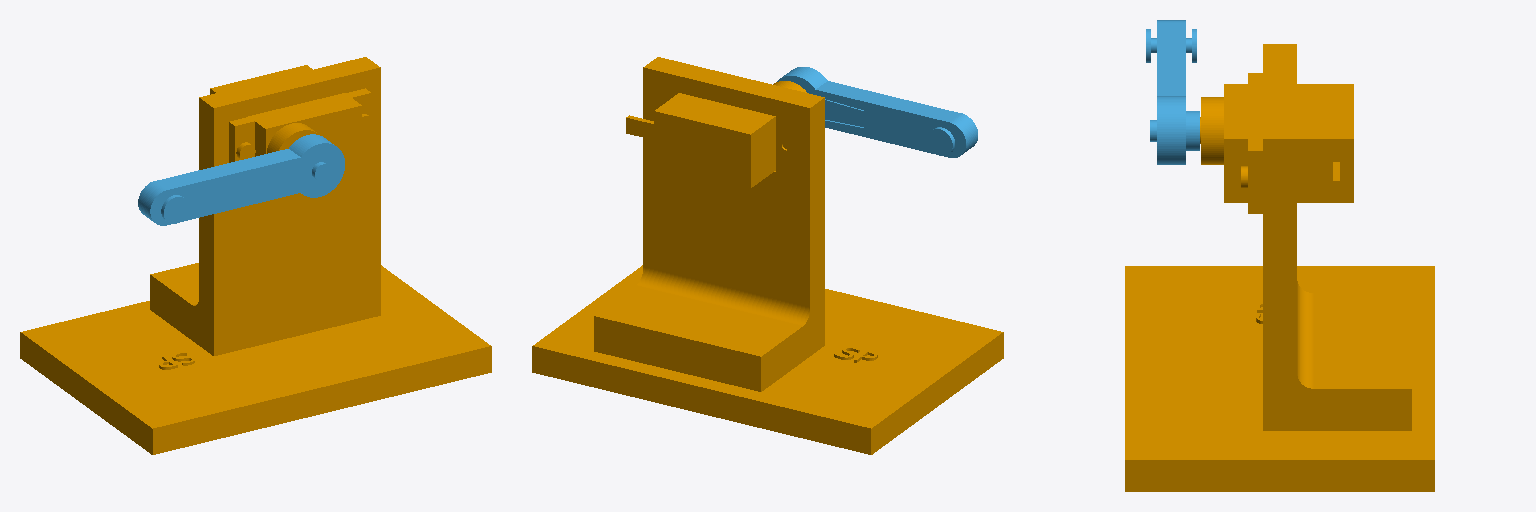
The robot description file, URDF, robot "servo_mount_v1":
<robot name="servo_mount_v1">
  <link name="base_link">
    <inertial>
      <origin xyz="-0.002946 0.005692 0.020996" rpy="0 0 0" />
      <mass value="0.045848" />
      <inertia ixx="2.603e-05" ixy="-4.112e-07" ixz="-2.301e-06" iyy="3.290e-05" iyz="1.472e-06" izz="1.900e-05" />
    </inertial>
    <visual name="base_v">
      <origin xyz="-0.000000 -0.000000 -0.000000" rpy="0 0 0" />
      <geometry>
        <mesh filename="stl/base.stl" scale="0.001 0.001 0.001" />
      </geometry>
    </visual>
    <collision name="base_c">
      <origin xyz="-0.000000 -0.000000 -0.000000" rpy="0 0 0" />
      <geometry>
        <mesh filename="stl/base.stl" scale="0.001 0.001 0.001" />
      </geometry>
    </collision>
    <visual name="cradle_v">
      <origin xyz="-0.000000 -0.000000 -0.000000" rpy="0 0 0" />
      <geometry>
        <mesh filename="stl/cradle.stl" scale="0.001 0.001 0.001" />
      </geometry>
    </visual>
    <collision name="cradle_c">
      <origin xyz="-0.000000 -0.000000 -0.000000" rpy="0 0 0" />
      <geometry>
        <mesh filename="stl/cradle.stl" scale="0.001 0.001 0.001" />
      </geometry>
    </collision>
    <visual name="servo_v">
      <origin xyz="-0.000000 -0.000000 -0.000000" rpy="0 0 0" />
      <geometry>
        <mesh filename="stl/servo.stl" scale="0.001 0.001 0.001" />
      </geometry>
    </visual>
    <collision name="servo_c">
      <origin xyz="-0.000000 -0.000000 -0.000000" rpy="0 0 0" />
      <geometry>
        <mesh filename="stl/servo.stl" scale="0.001 0.001 0.001" />
      </geometry>
    </collision>
    <visual name="tab0_v">
      <origin xyz="-0.000000 -0.000000 -0.000000" rpy="0 0 0" />
      <geometry>
        <mesh filename="stl/tab0.stl" scale="0.001 0.001 0.001" />
      </geometry>
    </visual>
    <collision name="tab0_c">
      <origin xyz="-0.000000 -0.000000 -0.000000" rpy="0 0 0" />
      <geometry>
        <mesh filename="stl/tab0.stl" scale="0.001 0.001 0.001" />
      </geometry>
    </collision>
    <visual name="tab1_v">
      <origin xyz="-0.000000 -0.000000 -0.000000" rpy="0 0 0" />
      <geometry>
        <mesh filename="stl/tab1.stl" scale="0.001 0.001 0.001" />
      </geometry>
    </visual>
    <collision name="tab1_c">
      <origin xyz="-0.000000 -0.000000 -0.000000" rpy="0 0 0" />
      <geometry>
        <mesh filename="stl/tab1.stl" scale="0.001 0.001 0.001" />
      </geometry>
    </collision>
    <visual name="m3a_v">
      <origin xyz="-0.000000 -0.000000 -0.000000" rpy="0 0 0" />
      <geometry>
        <mesh filename="stl/m3a.stl" scale="0.001 0.001 0.001" />
      </geometry>
    </visual>
    <collision name="m3a_c">
      <origin xyz="-0.000000 -0.000000 -0.000000" rpy="0 0 0" />
      <geometry>
        <mesh filename="stl/m3a.stl" scale="0.001 0.001 0.001" />
      </geometry>
    </collision>
    <visual name="m3b_v">
      <origin xyz="-0.000000 -0.000000 -0.000000" rpy="0 0 0" />
      <geometry>
        <mesh filename="stl/m3b.stl" scale="0.001 0.001 0.001" />
      </geometry>
    </visual>
    <collision name="m3b_c">
      <origin xyz="-0.000000 -0.000000 -0.000000" rpy="0 0 0" />
      <geometry>
        <mesh filename="stl/m3b.stl" scale="0.001 0.001 0.001" />
      </geometry>
    </collision>
    <visual name="ins_a_v">
      <origin xyz="-0.000000 -0.000000 -0.000000" rpy="0 0 0" />
      <geometry>
        <mesh filename="stl/ins_a.stl" scale="0.001 0.001 0.001" />
      </geometry>
    </visual>
    <collision name="ins_a_c">
      <origin xyz="-0.000000 -0.000000 -0.000000" rpy="0 0 0" />
      <geometry>
        <mesh filename="stl/ins_a.stl" scale="0.001 0.001 0.001" />
      </geometry>
    </collision>
    <visual name="ins_b_v">
      <origin xyz="-0.000000 -0.000000 -0.000000" rpy="0 0 0" />
      <geometry>
        <mesh filename="stl/ins_b.stl" scale="0.001 0.001 0.001" />
      </geometry>
    </visual>
    <collision name="ins_b_c">
      <origin xyz="-0.000000 -0.000000 -0.000000" rpy="0 0 0" />
      <geometry>
        <mesh filename="stl/ins_b.stl" scale="0.001 0.001 0.001" />
      </geometry>
    </collision>
  </link>
  <link name="arm_link">
    <inertial>
      <origin xyz="-0.034710 -0.001899 0.000000" rpy="0 0 0" />
      <mass value="0.202683" />
      <inertia ixx="2.401e-08" ixy="-9.218e-09" ixz="-4.101e-22" iyy="1.744e-06" iyz="-6.201e-22" izz="1.738e-06" />
    </inertial>
    <visual name="horn_v">
      <origin xyz="0.005300 0.014000 -0.052000" rpy="0 0 0" />
      <geometry>
        <mesh filename="stl/horn.stl" scale="0.001 0.001 0.001" />
      </geometry>
    </visual>
    <collision name="horn_c">
      <origin xyz="0.005300 0.014000 -0.052000" rpy="0 0 0" />
      <geometry>
        <mesh filename="stl/horn.stl" scale="0.001 0.001 0.001" />
      </geometry>
    </collision>
    <visual name="arm_v">
      <origin xyz="0.005300 0.014000 -0.052000" rpy="0 0 0" />
      <geometry>
        <mesh filename="stl/arm.stl" scale="0.001 0.001 0.001" />
      </geometry>
    </visual>
    <collision name="arm_c">
      <origin xyz="0.005300 0.014000 -0.052000" rpy="0 0 0" />
      <geometry>
        <mesh filename="stl/arm.stl" scale="0.001 0.001 0.001" />
      </geometry>
    </collision>
    <visual name="horn_screw_v">
      <origin xyz="0.005300 0.014000 -0.052000" rpy="0 0 0" />
      <geometry>
        <mesh filename="stl/horn_screw.stl" scale="0.001 0.001 0.001" />
      </geometry>
    </visual>
    <collision name="horn_screw_c">
      <origin xyz="0.005300 0.014000 -0.052000" rpy="0 0 0" />
      <geometry>
        <mesh filename="stl/horn_screw.stl" scale="0.001 0.001 0.001" />
      </geometry>
    </collision>
    <visual name="weight_v">
      <origin xyz="0.005300 0.014000 -0.052000" rpy="0 0 0" />
      <geometry>
        <mesh filename="stl/weight.stl" scale="0.001 0.001 0.001" />
      </geometry>
    </visual>
    <collision name="weight_c">
      <origin xyz="0.005300 0.014000 -0.052000" rpy="0 0 0" />
      <geometry>
        <mesh filename="stl/weight.stl" scale="0.001 0.001 0.001" />
      </geometry>
    </collision>
  </link>
  <link name="load_point">
    <inertial>
      <mass value="0.000001" />
      <inertia ixx="1e-12" ixy="0" ixz="0" iyy="1e-12" iyz="0" izz="1e-12" />
    </inertial>
  </link>
  <joint name="shaft" type="revolute">
    <parent link="base_link" />
    <child link="arm_link" />
    <origin xyz="-0.005300 -0.014000 0.052000" rpy="0 0 0" />
    <axis xyz="0.0 1.0 0" />
    <limit lower="-1.57080" upper="1.57080" effort="0.1765" velocity="10.472" />
  </joint>
  <joint name="load_point_fixed" type="fixed">
    <parent link="arm_link" />
    <child link="load_point" />
    <origin xyz="-0.035000 -0.001900 0.000000" rpy="0 0 0" />
  </joint>
</robot>

--- Render facts (derived) ---
The picture shows the robot from 3 angles, left to right: view 1: azimuth 30°, elevation 25°; view 2: azimuth 150°, elevation 25°; view 3: azimuth 270°, elevation 25°; orthographic projection.
Model servo_mount_v1 with 3 links and 2 joints (1 revolute, 1 fixed), rooted at base_link, posed all joints at 0.
Links seen in each view (by area): view 1: base_link, arm_link; view 2: base_link, arm_link; view 3: base_link, arm_link.
Boxes of the visible links, <box> form: base_link: <box>20,57,491,454</box>; arm_link: <box>138,134,344,225</box>; base_link: <box>532,57,1003,454</box>; arm_link: <box>777,67,977,157</box>; base_link: <box>1125,44,1434,491</box>; arm_link: <box>1146,20,1199,164</box>.
Bounding box of the posed robot: 0.08 × 0.054 × 0.062 m (x, y, z).
Meshes: 13 distinct files referenced, 13 mesh visuals loaded (13 binary STL).
